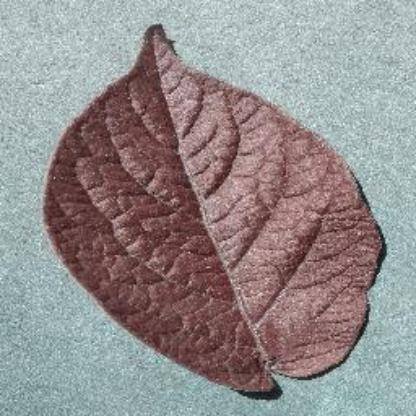Healthy-plant: (40, 15, 394, 400)
